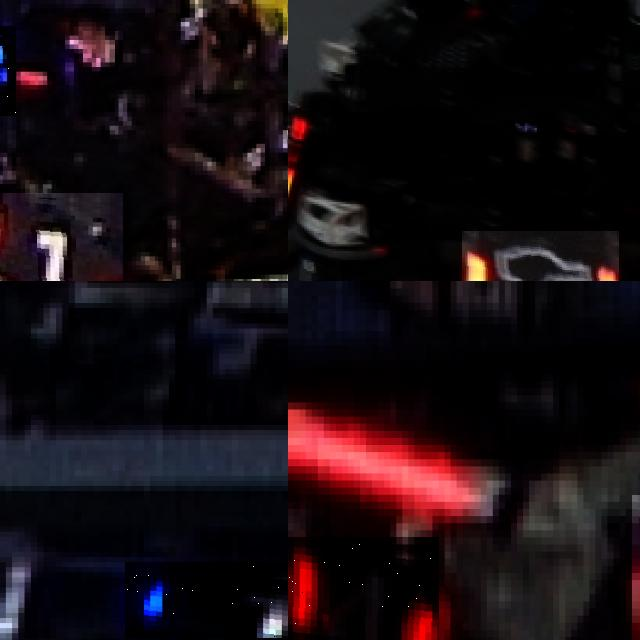B1: (125, 562, 288, 638)
R1: (0, 193, 123, 281)
R4: (288, 537, 438, 640)
Rs: (461, 231, 619, 281)
